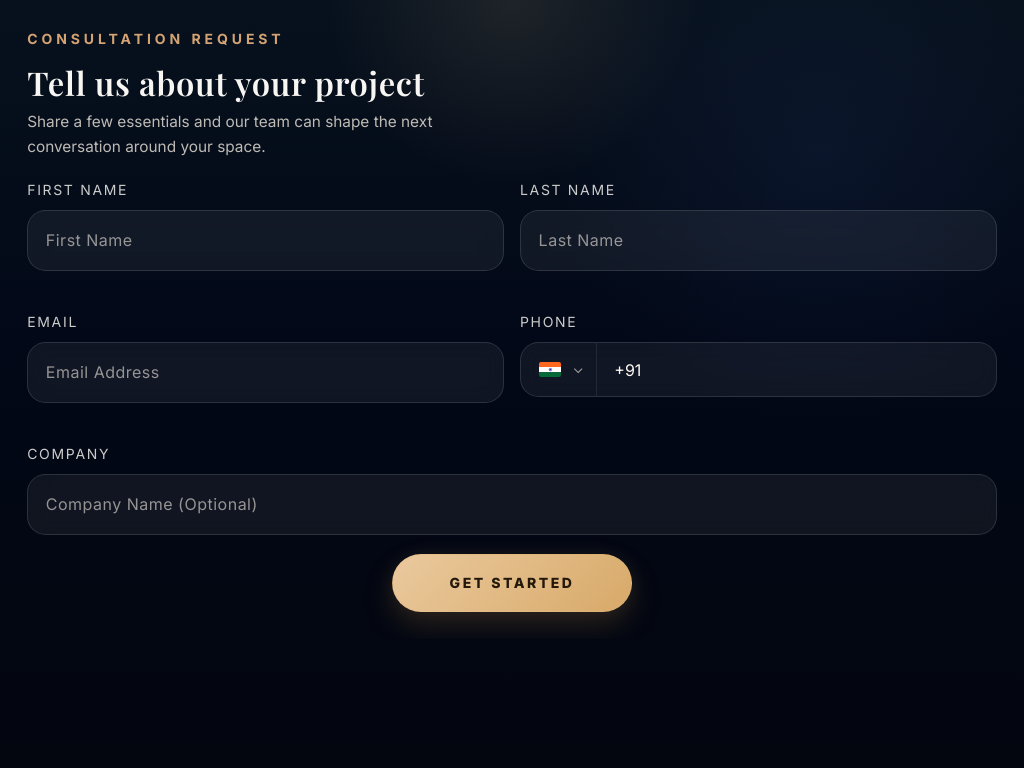
Test: ConsultationForm › shows validation errors when the form is submitted empty
The width and height of the screenshot is (1024, 768).
Click the button "Get Started" at (512, 583), box 392,554 -> 632,612
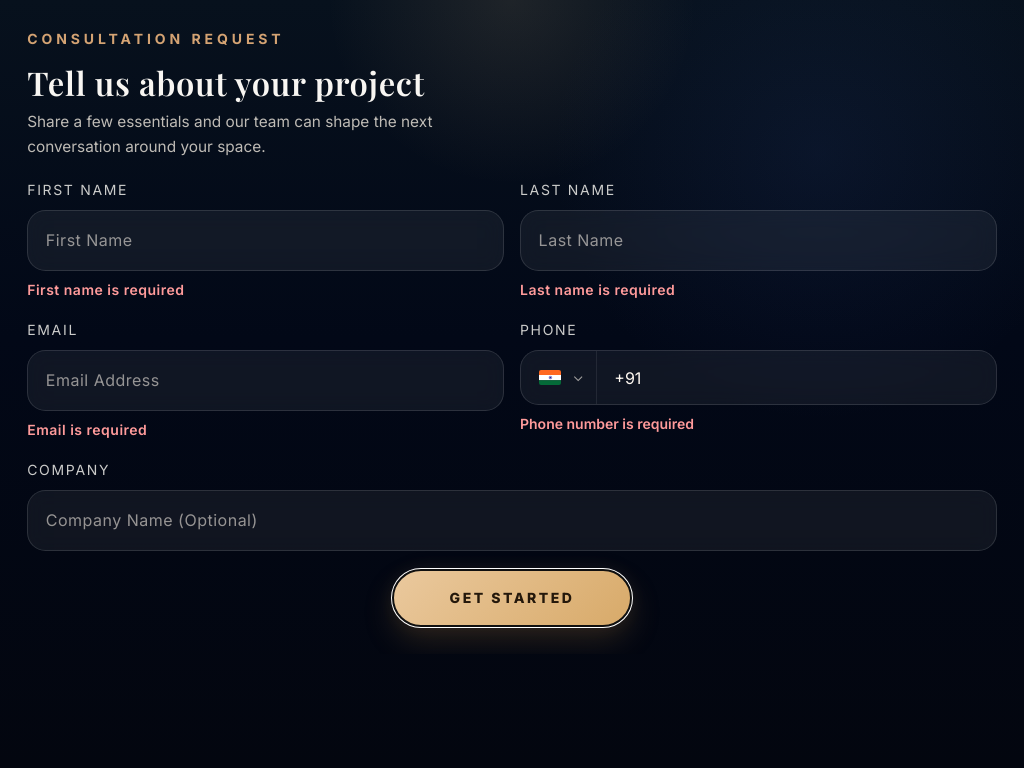
Result: the text "First name is required" is shown at 27,281 -> 184,298
Result: the text "Last name is required" is shown at 520,281 -> 675,298
Result: the text "Email is required" is shown at 27,421 -> 147,438
